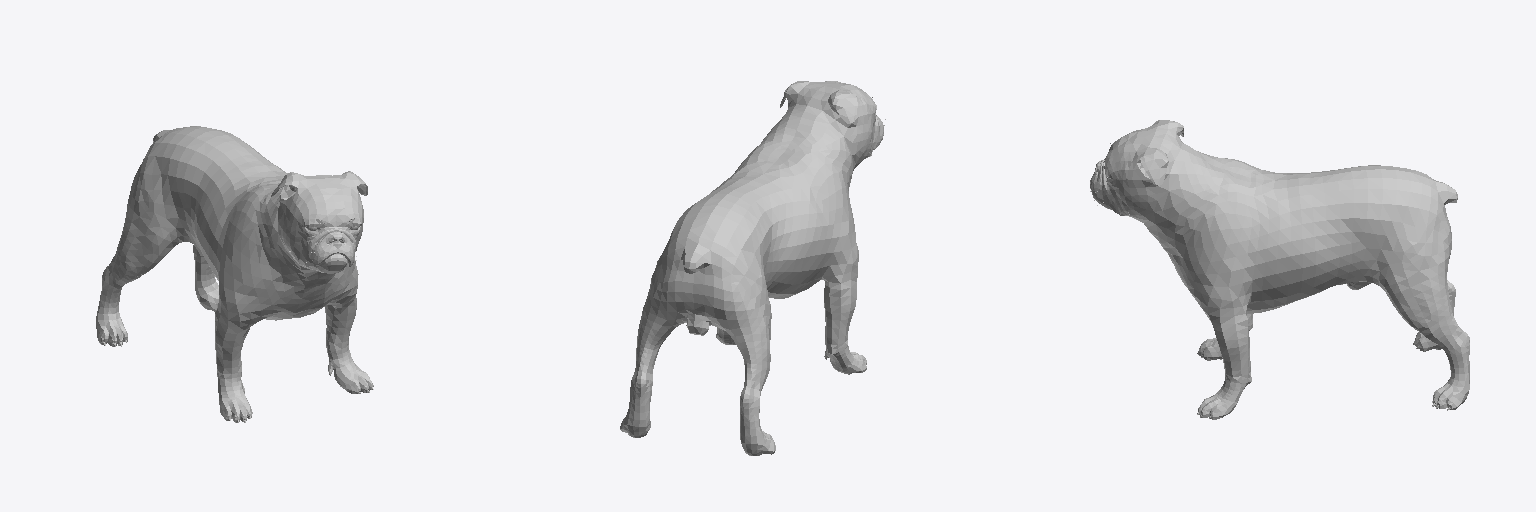
The model's file is bulldog.obj.
3 renders of one model, left to right at view 1: azimuth 30°, elevation 25°; view 2: azimuth 150°, elevation 25°; view 3: azimuth 270°, elevation 25°, orthographic.
Parts seen in each view (by area): view 1: EnglishBulldog_by_AlexLashko_FreeSample; view 2: EnglishBulldog_by_AlexLashko_FreeSample; view 3: EnglishBulldog_by_AlexLashko_FreeSample.
Boxes of the visible parts, x1,y1,x2,y2 form: EnglishBulldog_by_AlexLashko_FreeSample: [96, 126, 373, 422]; EnglishBulldog_by_AlexLashko_FreeSample: [620, 81, 885, 455]; EnglishBulldog_by_AlexLashko_FreeSample: [1090, 120, 1469, 419].
Size of the model in its own units: 34.62 by 50.94 by 69.6.